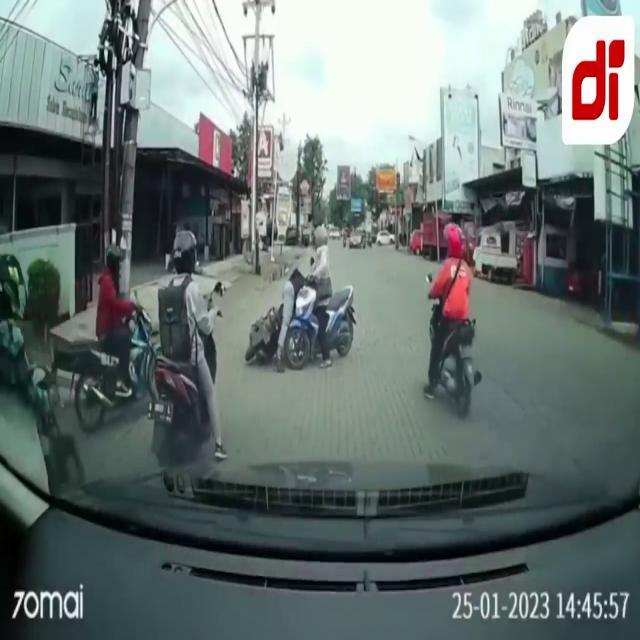multiple_accident: (243, 235, 361, 372)
normal: (66, 225, 227, 470), (416, 216, 500, 426)
